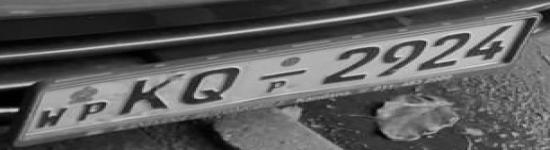-: (257, 66, 311, 82)
2: (320, 43, 383, 86), (420, 32, 473, 72)
4: (467, 22, 515, 65)
9: (380, 36, 427, 82)
K: (116, 73, 178, 119)
P: (74, 100, 116, 122)
Q: (178, 64, 250, 106)
W: (36, 109, 70, 130)
